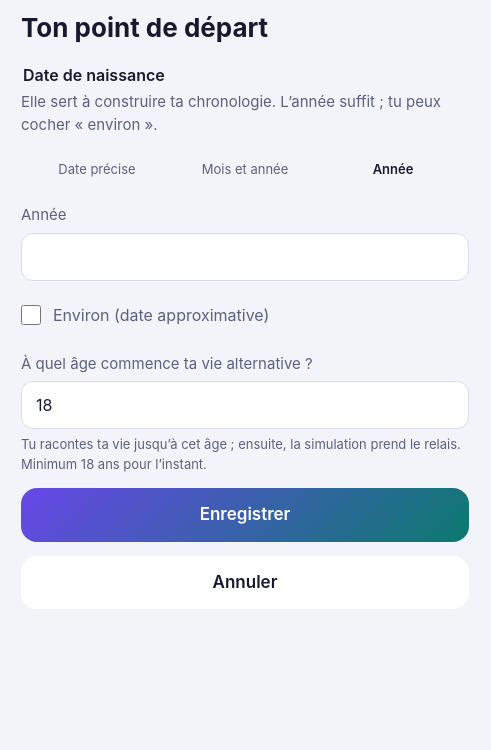
Test case: dossier de vie : parcours dans l’interface › demande d’abord la naissance et l’âge de départ, avec des erreurs explicites
This screenshot has width=491, height=750.
Step 1. Type "2000" into the field labelled "Année" → (245, 256), box [21, 232, 469, 280]
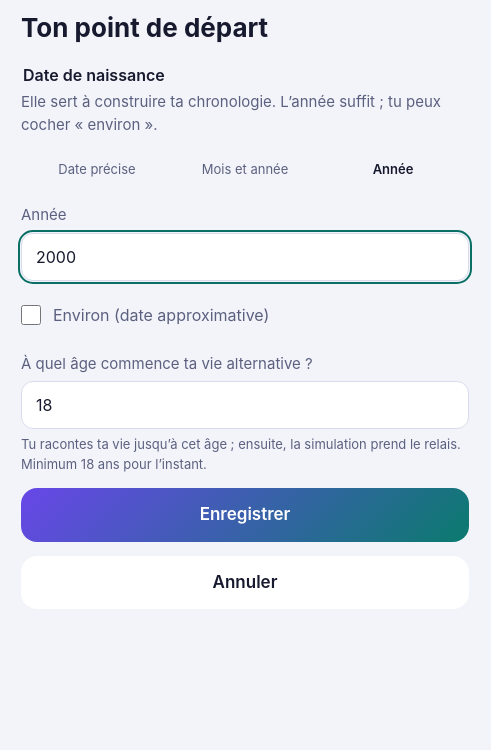
Step 2. Replace the text in the field labelled "À quel âge commence" with "30" → (245, 405), box [21, 381, 469, 429]
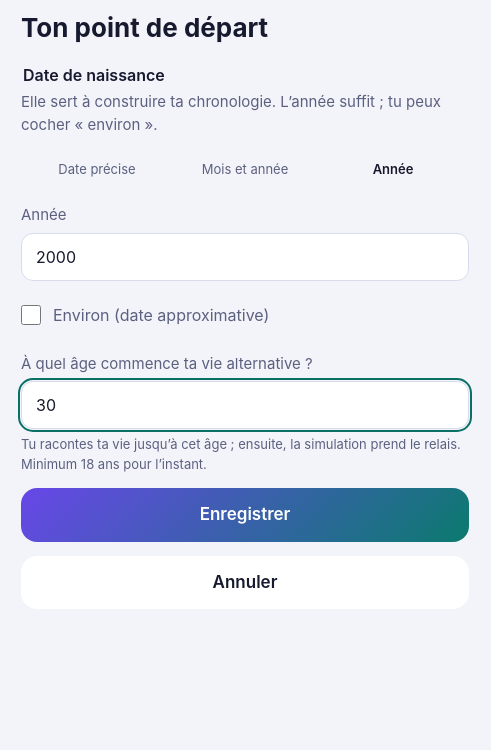
Step 3. Click the button "Enregistrer" → (245, 515), box [21, 488, 469, 542]
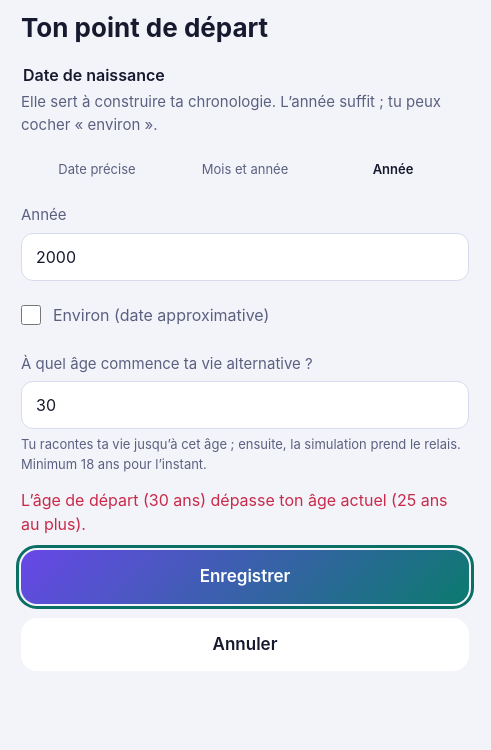
Expected: the message reads "L’âge de départ (30 ans) dépasse ton âge actuel (25 ans au plus).", [21, 490, 448, 534]
Step 4. Replace the text in the field labelled "À quel âge commence" with "20" → (245, 405), box [21, 381, 469, 429]
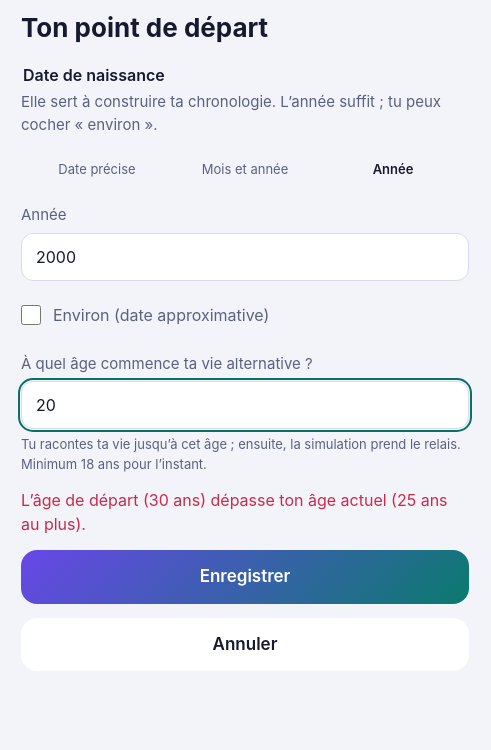
Step 5. Click the button "Enregistrer" → (245, 577), box [21, 550, 469, 604]
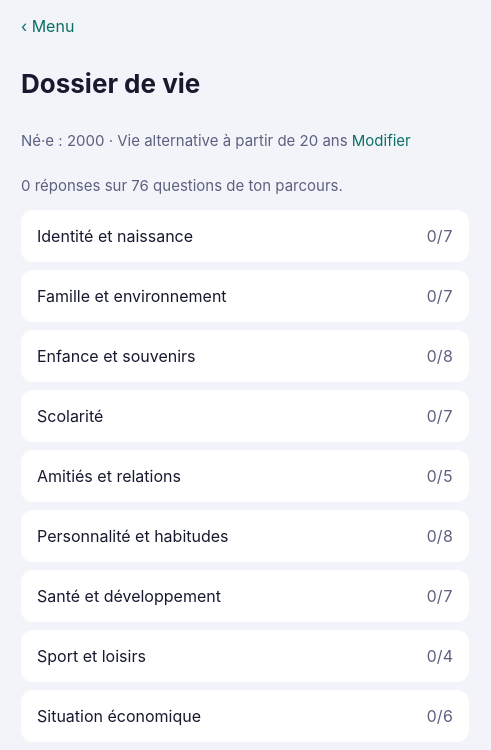
Expected: the heading reads "Dossier de vie", [21, 68, 200, 99]
Expected: the number of buttons "Identité et naissance 0/7" is 12
